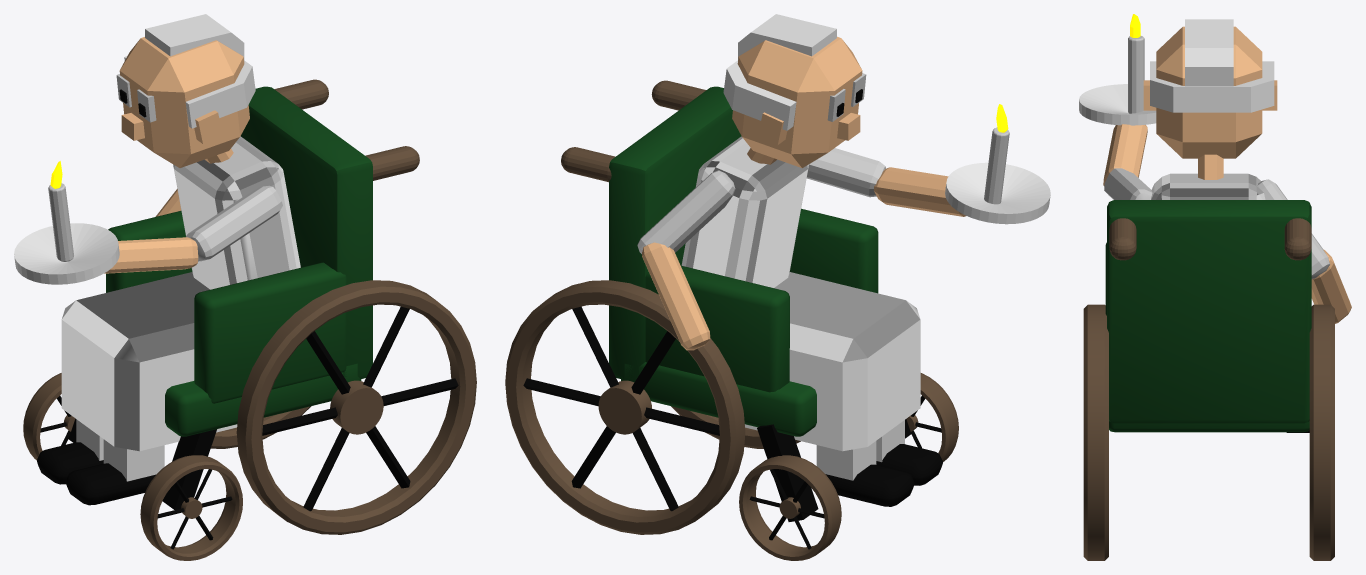
The model's file is OLDMAN.fbx.
3 renders of one model, left to right at view 1: azimuth 30°, elevation 25°; view 2: azimuth 150°, elevation 25°; view 3: azimuth 270°, elevation 25°, orthographic. The views are drawn at different scales.
Visible parts, largest first — view 1: Cube_9, Tube_3, Cube_1, Cube_3, Cube_8, Cube_19, Cube, Cylinder, Tube, Cube_16, Cube_17, Cube_2 (+17 smaller); view 2: Cube_9, Tube_4, Cube_1, Cube_8, Cube_2, Cube_19, Cube, Cube_3, Cylinder, Tube_2, Cube_15, Cube_14 (+17 smaller); view 3: Cube_1, Cube_19, Tube_4, Tube_3, Cube_21, Cube_20, Cube_8, Cylinder, Cube, Cube_17, Cube_15, Cylinder_1 (+5 smaller).
Boxes of the visible parts, x1,y1,x2,y2 form: Cube_9: (61,272,237,451); Tube_3: (236,280,476,534); Cube_1: (241,86,372,378); Cube_3: (194,262,346,403); Cube_8: (173,136,300,289); Cube_19: (119,37,249,167); Cube: (165,363,361,436); Cylinder: (14,223,119,284); Tube: (140,455,242,560); Cube_16: (186,185,282,261); Cube_17: (104,237,198,273); Cube_2: (106,211,192,292); Cube_9: (745,272,920,451); Tube_4: (505,280,745,534); Cube_1: (609,86,741,378); Cube_8: (681,136,808,287); Cube_2: (645,265,789,392); Cube_19: (732,36,862,168); Cube: (621,362,816,436); Cube_3: (789,208,878,293); Cylinder: (945,162,1050,224); Tube_2: (739,455,841,560); Cube_15: (642,242,710,350); Cube_14: (637,170,735,253); Cube_1: (1107,200,1311,423); Cube_19: (1156,26,1262,158); Tube_4: (1309,304,1334,560); Tube_3: (1083,304,1108,560); Cube_21: (1150,61,1274,112); Cube_20: (1185,19,1233,86); Cube_8: (1151,173,1265,199); Cylinder: (1079,84,1156,125); Cube: (1109,421,1309,432); Cube_17: (1103,124,1147,185); Cube_15: (1311,249,1351,323); Cylinder_1: (1128,36,1144,113).
Size of the model in its own units: 256 by 272 by 145.
